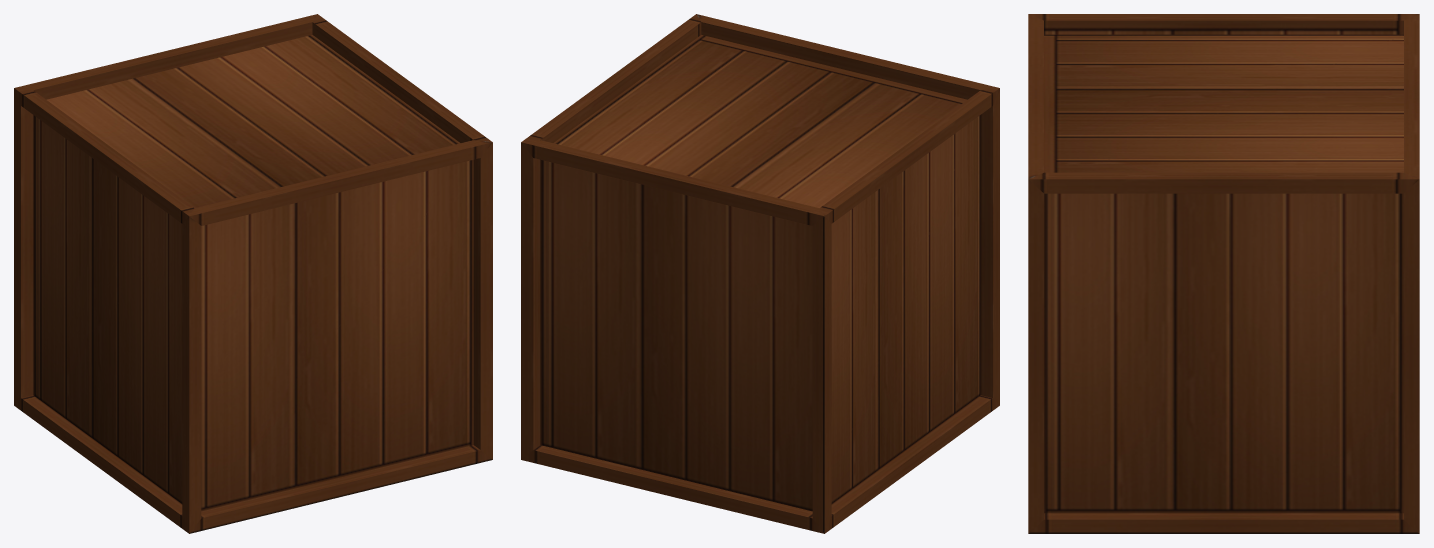
File: Crate.FBX
3 renders of one model, left to right at view 1: azimuth 30°, elevation 25°; view 2: azimuth 150°, elevation 25°; view 3: azimuth 270°, elevation 25°, orthographic. The views are drawn at different scales.
Parts seen in each view (by area): view 1: Box001; view 2: Box001; view 3: Box001.
Boxes of the visible parts, <box> form: Box001: <box>14,14,492,533</box>; Box001: <box>521,14,999,533</box>; Box001: <box>1028,14,1419,533</box>.
Size of the model in its own units: 50 by 50 by 50.
